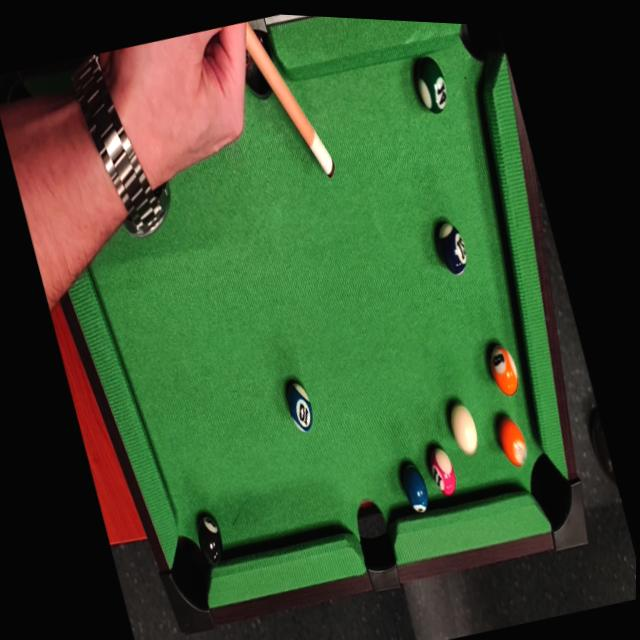cue ball: (444, 397, 483, 460)
other: (407, 46, 454, 113), (482, 335, 525, 402), (430, 215, 475, 278), (280, 372, 319, 437), (191, 507, 230, 572), (493, 409, 532, 472), (422, 442, 462, 501), (398, 464, 434, 518)
